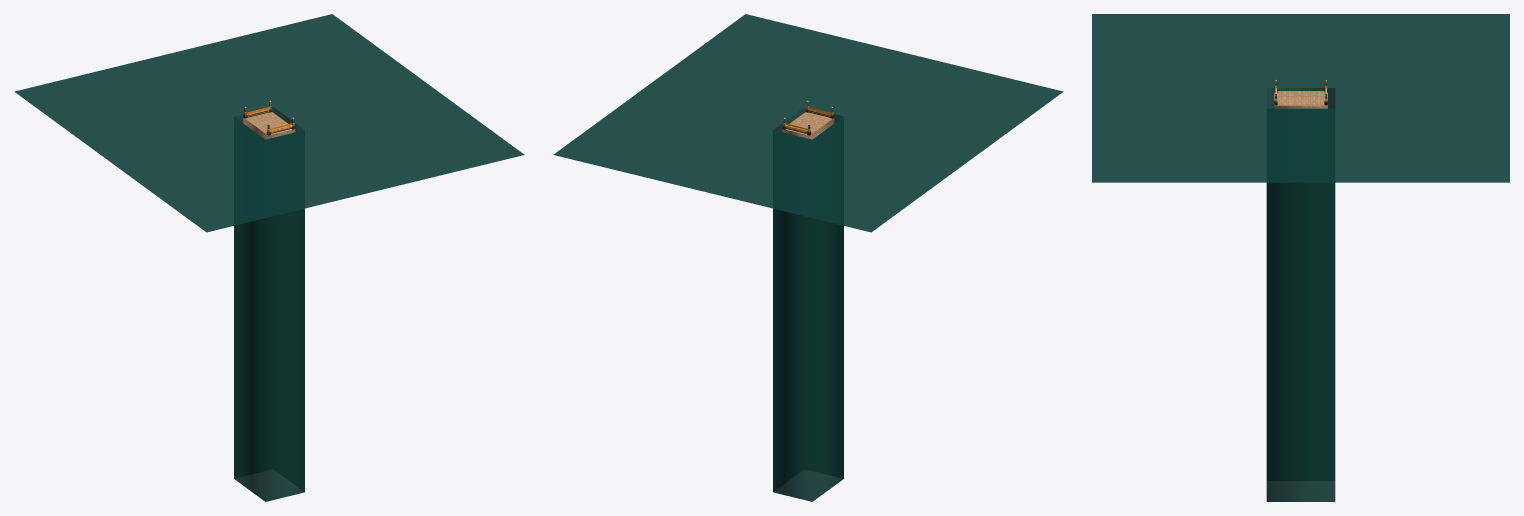
The model's file is Duel_Stage 40.fbx.
3 renders of one model, left to right at view 1: azimuth 30°, elevation 25°; view 2: azimuth 150°, elevation 25°; view 3: azimuth 270°, elevation 25°, orthographic. The views are drawn at different scales.
Parts seen in each view (by area): view 1: CR_Platform_Cube.008, CR_Platform_Cube.006; view 2: CR_Platform_Cube.008, CR_Platform_Cube.006; view 3: CR_Platform_Cube.008, CR_Platform_Cube.006.
Part boxes in pixels (<box>): CR_Platform_Cube.008: <box>14,14,524,501</box>; CR_Platform_Cube.006: <box>243,112,295,139</box>; CR_Platform_Cube.008: <box>553,14,1063,501</box>; CR_Platform_Cube.006: <box>782,112,834,139</box>; CR_Platform_Cube.008: <box>1092,14,1509,501</box>; CR_Platform_Cube.006: <box>1274,91,1327,108</box>.
Size of the model in its own units: 24423 by 27800 by 25589.
